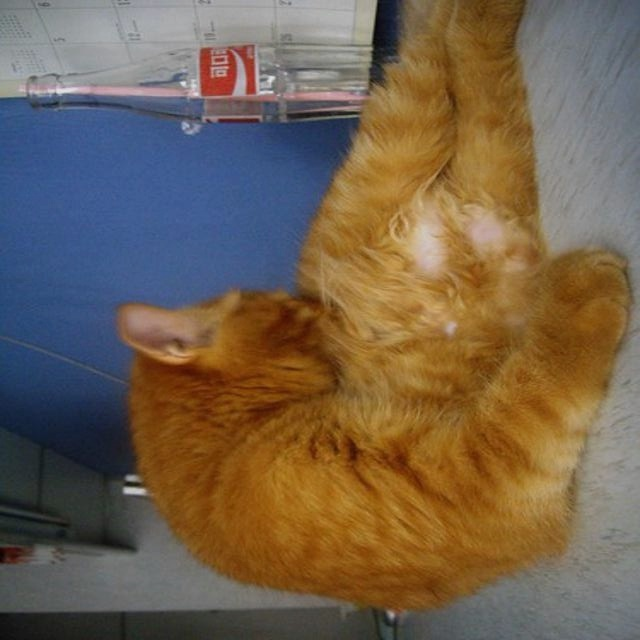hairloss: (410, 202, 523, 268)
